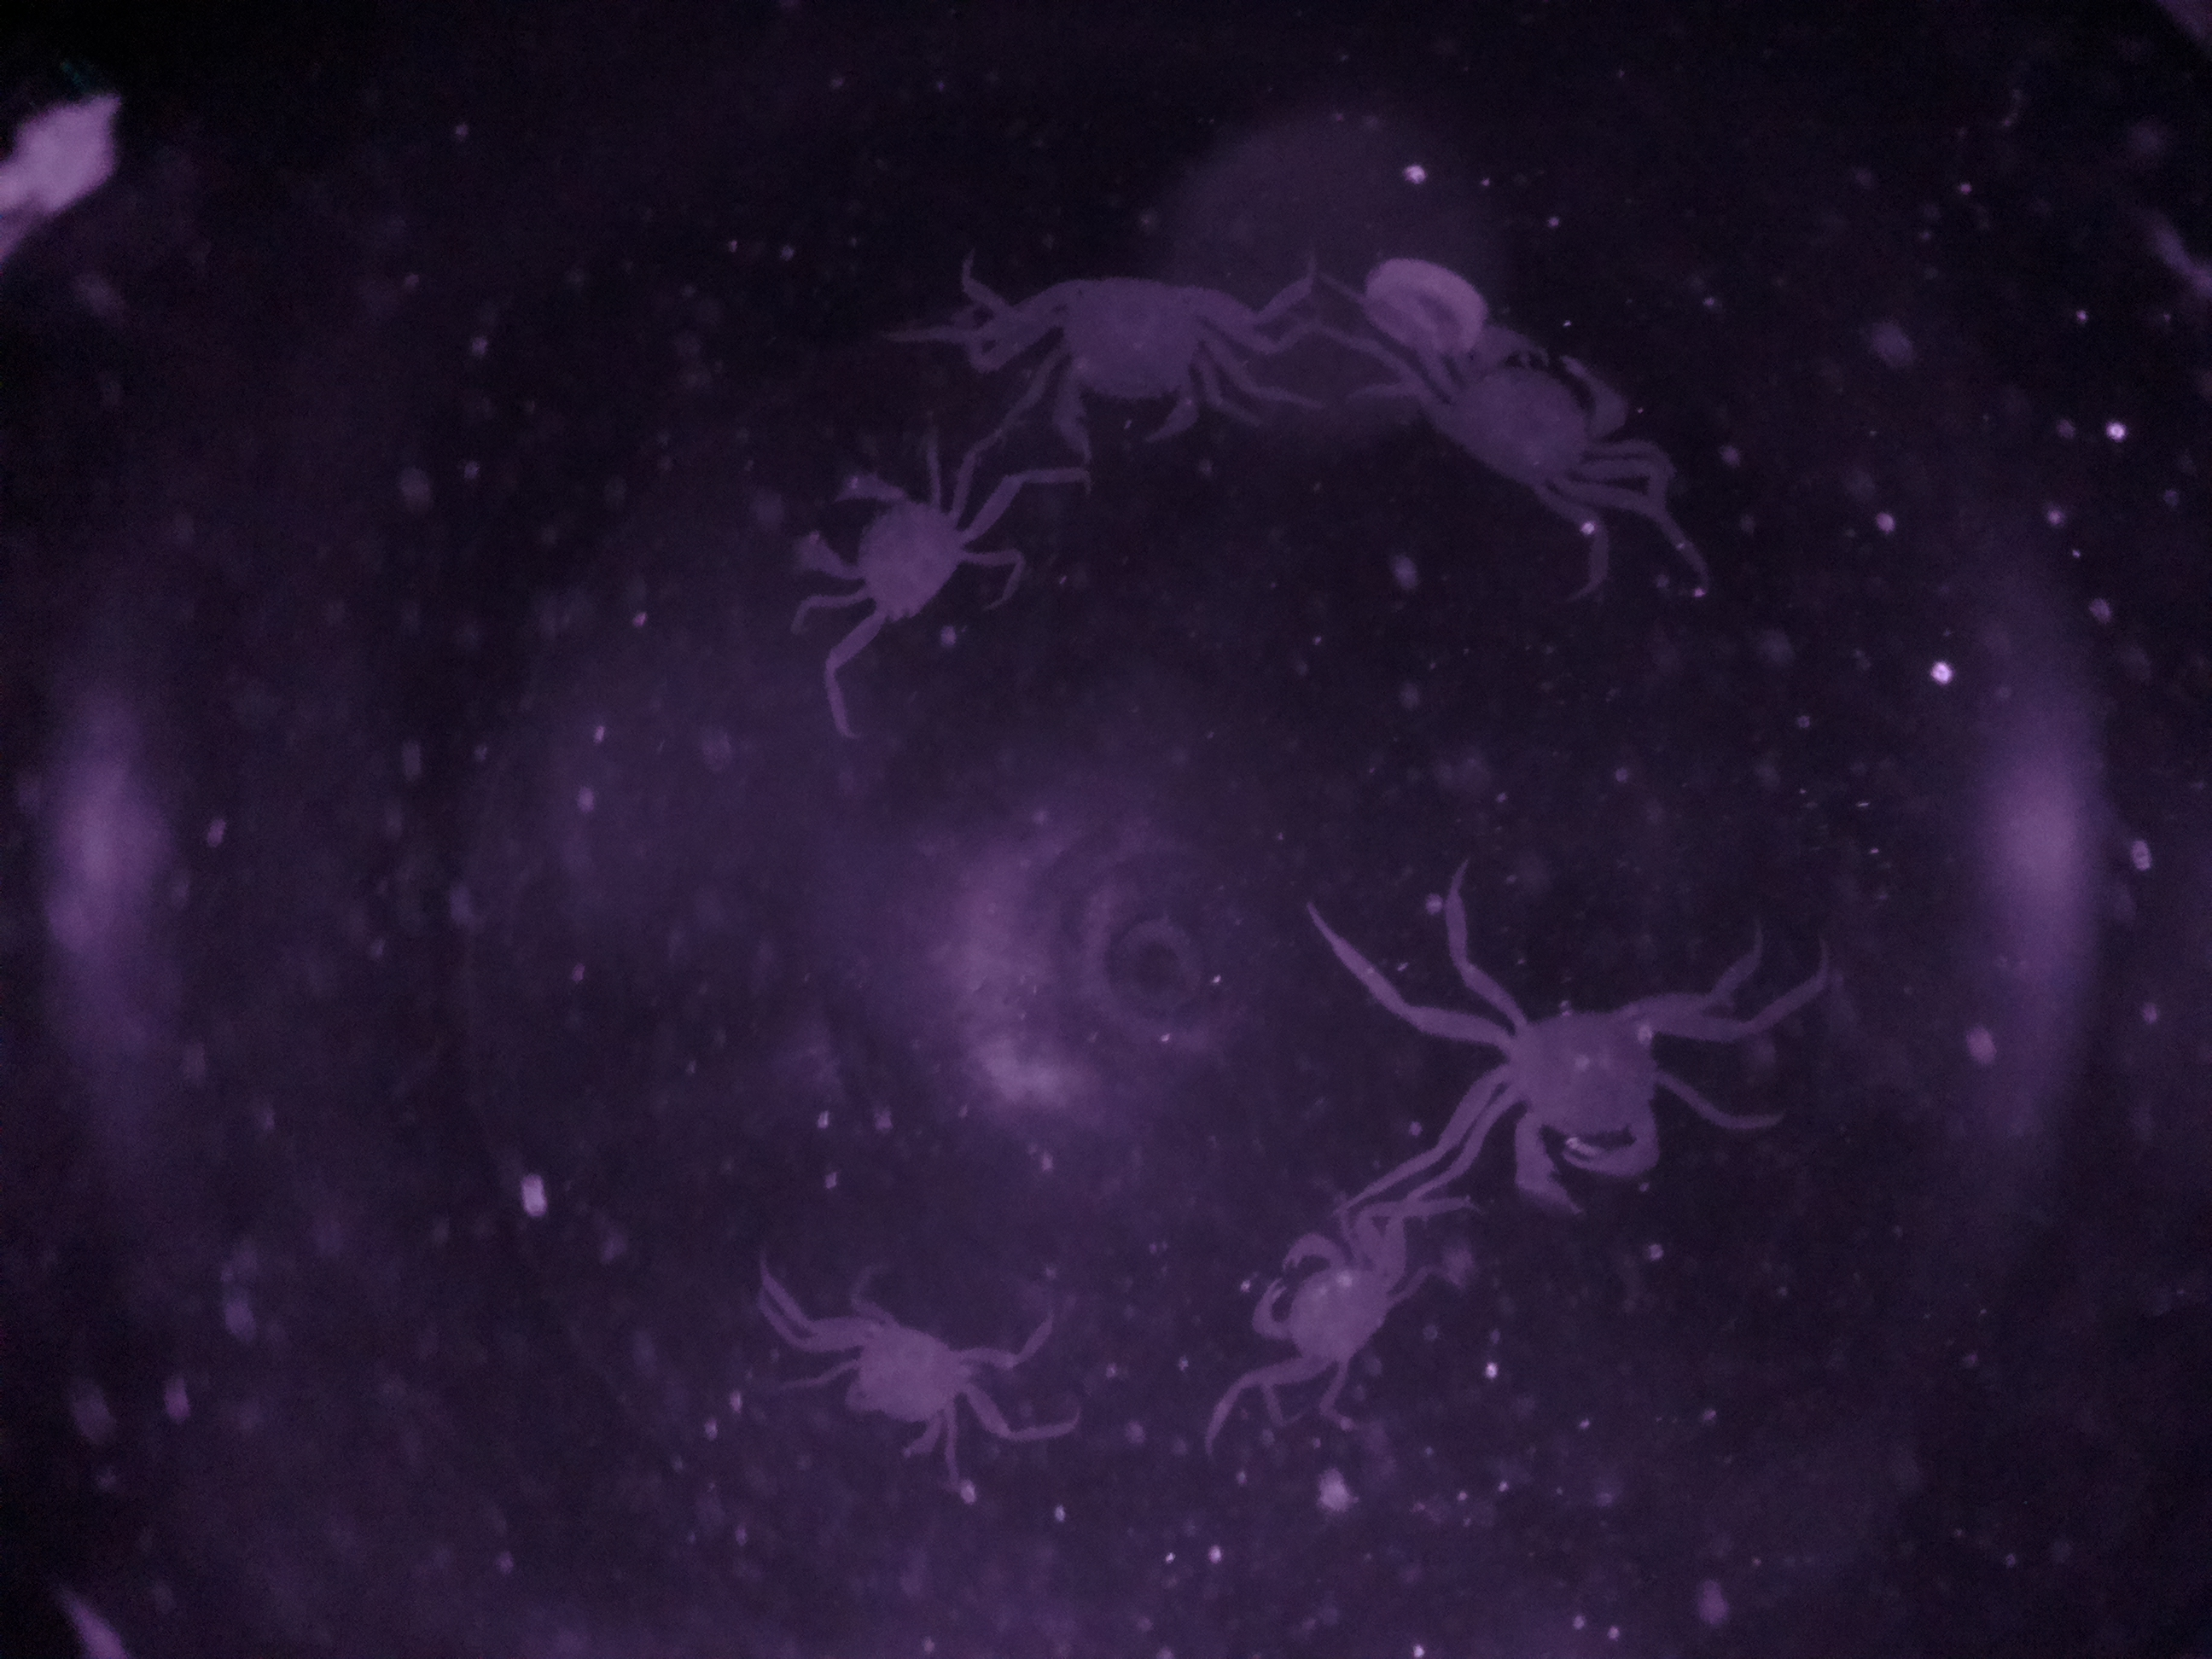Crab: (1404, 962, 1777, 1227), (998, 249, 1303, 477), (1378, 314, 1660, 540), (782, 434, 1033, 671), (779, 1281, 1021, 1502), (1242, 1220, 1440, 1405)
